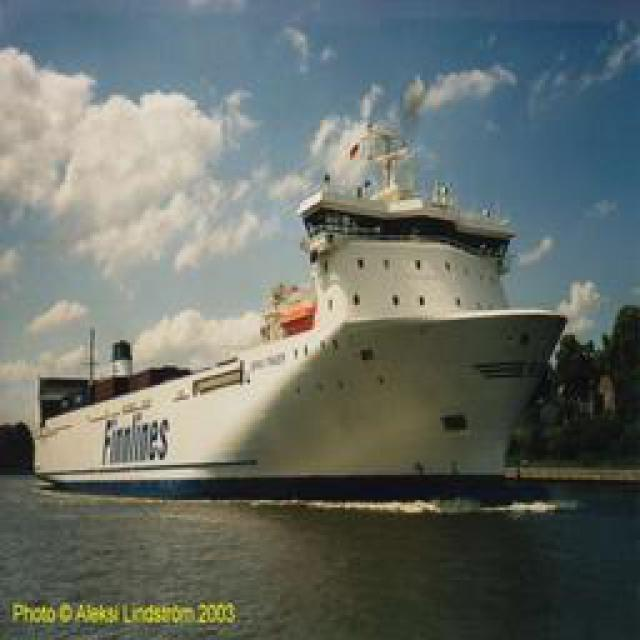Ship: (32, 72, 575, 513)
